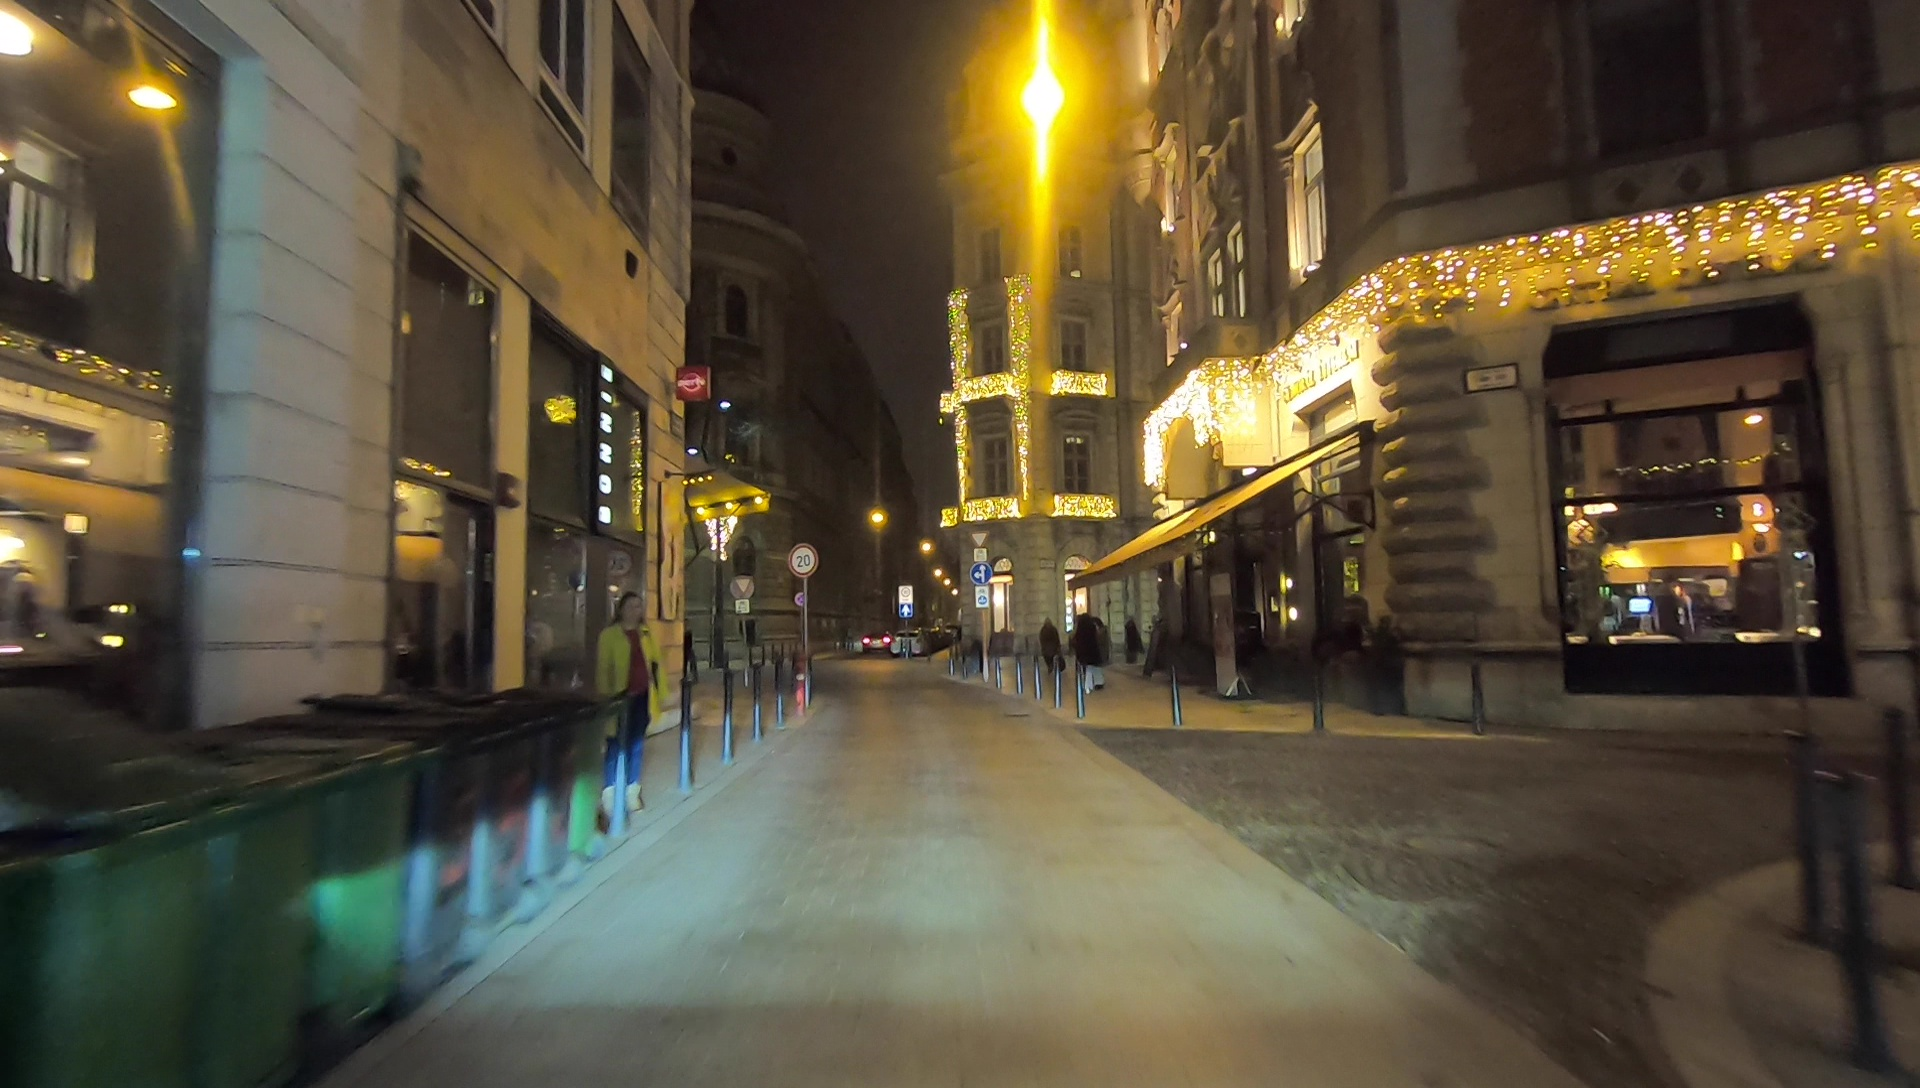person: (599, 589, 651, 804), (1073, 611, 1093, 693), (1041, 615, 1060, 686), (1095, 615, 1112, 691), (1123, 615, 1143, 669)
